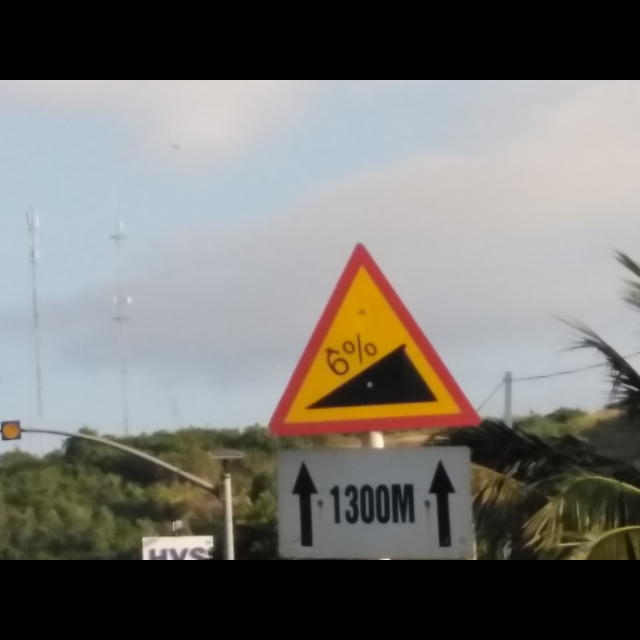Dốc lên nguy hiểm: (264, 235, 483, 441)
